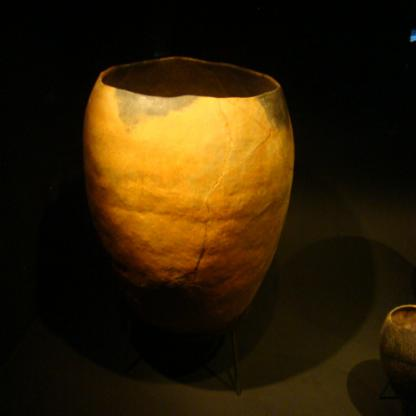vase: (83, 57, 293, 318)
